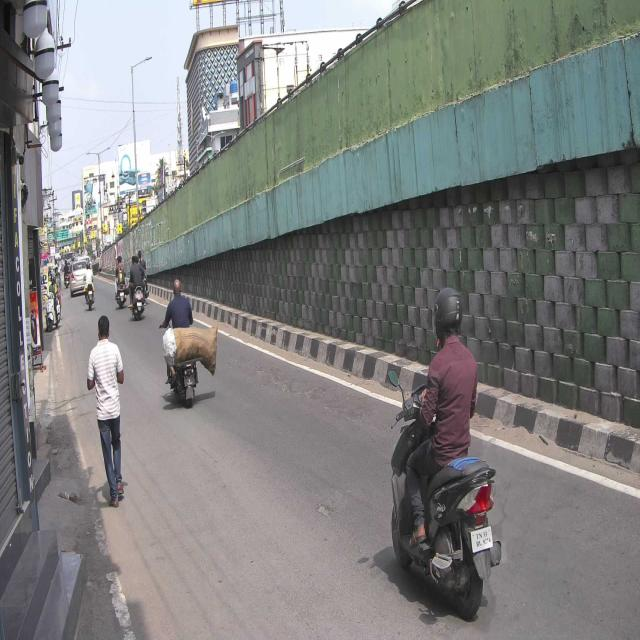single_rider: (386, 290, 503, 622)
